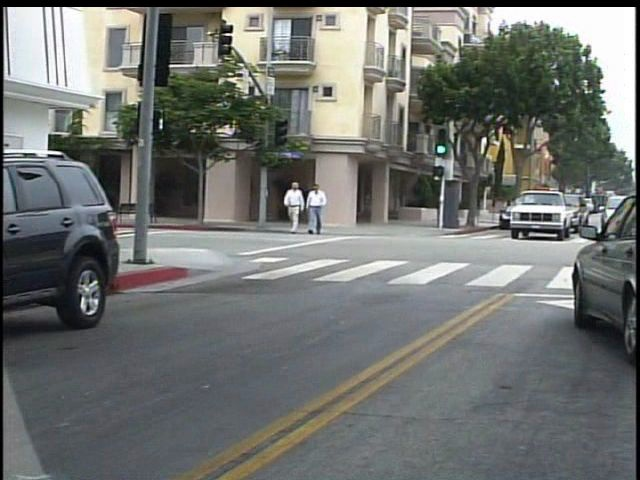person: (309, 179, 336, 239), (288, 177, 312, 240)
